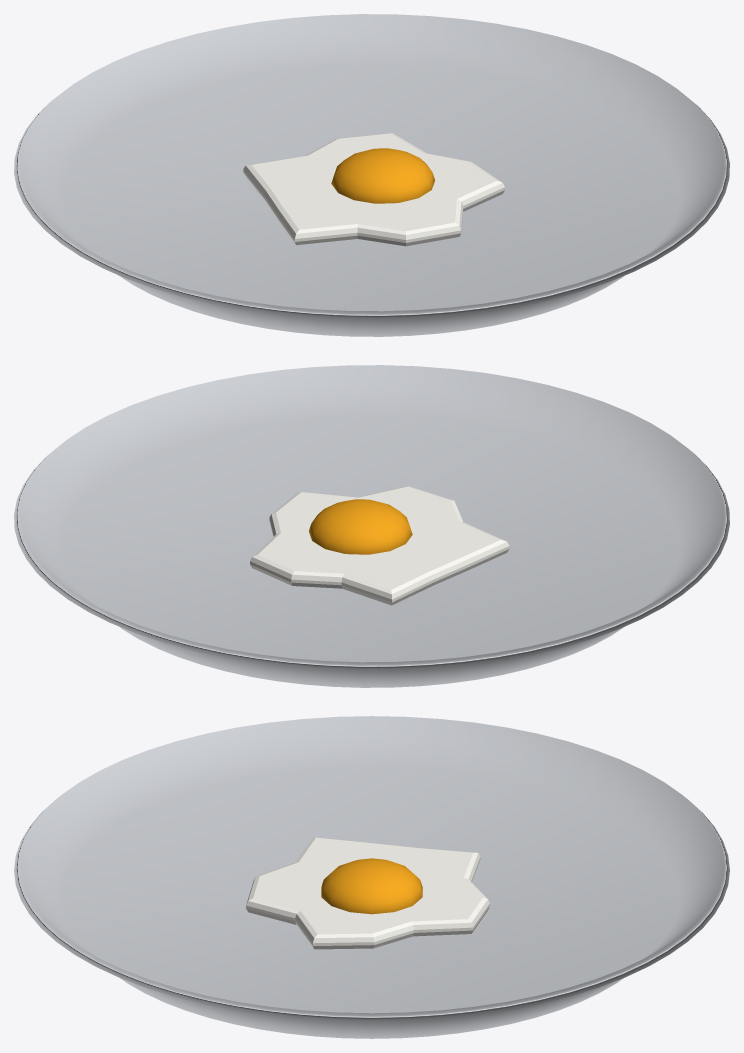
The model's file is mezzogiorno-uovo.glb.
The picture shows the model from 3 angles, top to bottom: view 1: azimuth 30°, elevation 25°; view 2: azimuth 150°, elevation 25°; view 3: azimuth 270°, elevation 25°; orthographic projection.
Bounding box in the file's own units: 0.22 × 0.0183 × 0.22.
